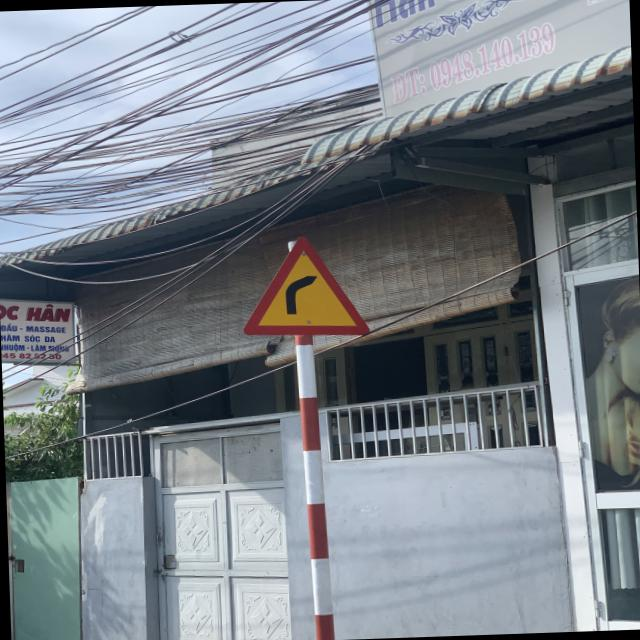Duong_Nguoi_Di_Bo_Cat_Ngang: (239, 231, 369, 338)
